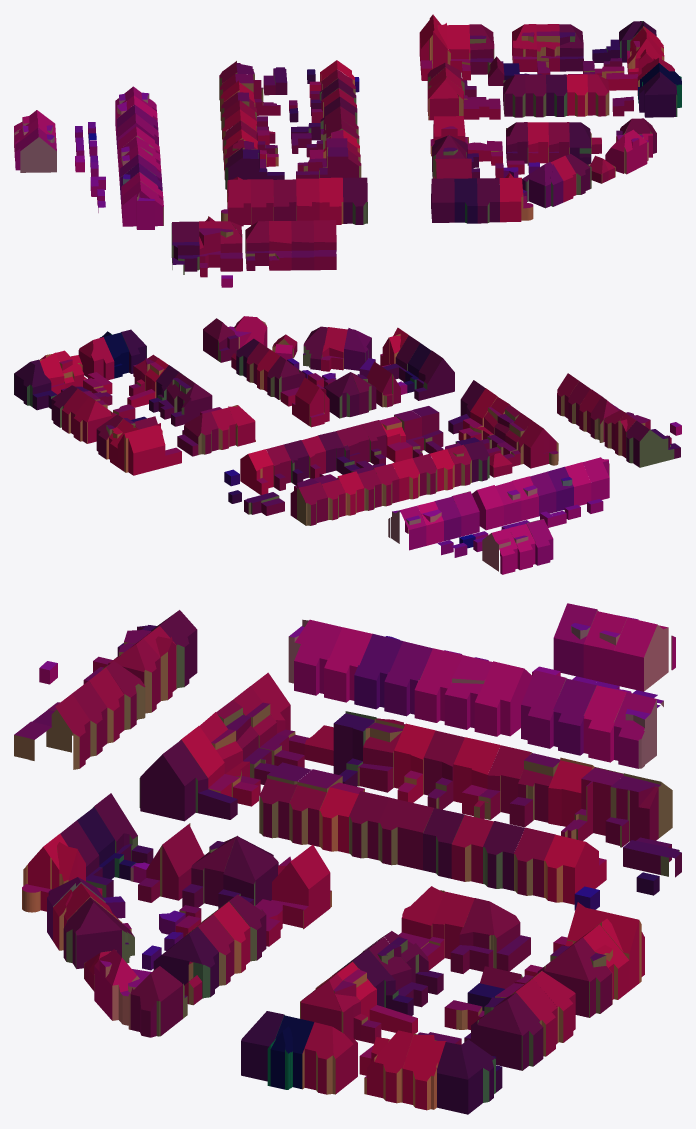
The model's file is buildings_6_14.glb.
The picture shows the model from 3 angles, top to bottom: view 1: azimuth 30°, elevation 25°; view 2: azimuth 150°, elevation 25°; view 3: azimuth 270°, elevation 25°; orthographic projection. The views are drawn at different scales.
Parts seen in each view (by area): view 1: buildings_6_14; view 2: buildings_6_14; view 3: buildings_6_14.
Boxes of the visible parts, left/top/right/bottom form: buildings_6_14: left=14, top=14, right=681, bottom=287; buildings_6_14: left=14, top=316, right=681, bottom=574; buildings_6_14: left=14, top=603, right=681, bottom=1114.
Size of the model in its own units: 184 by 12.26 by 111.
